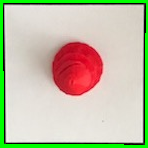Red Bishop: (49, 38, 102, 98)
